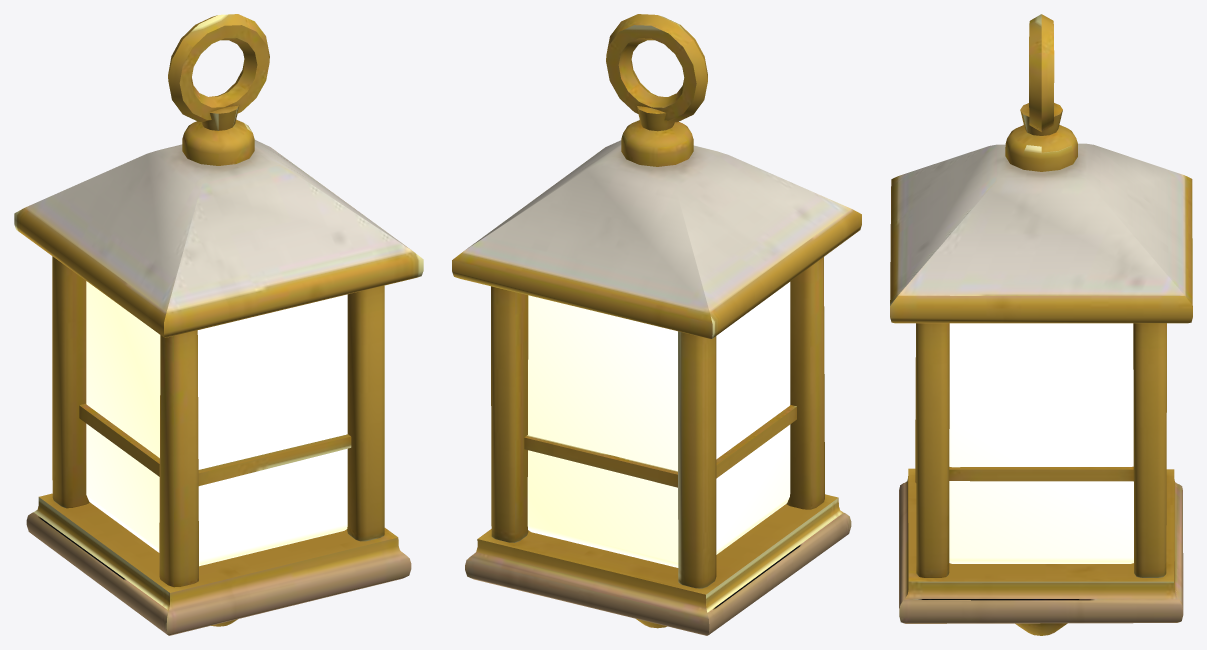
The model's file is lantern.glb.
3 views of the same model, side by side, from view 1: azimuth 30°, elevation 25°; view 2: azimuth 150°, elevation 25°; view 3: azimuth 270°, elevation 25° (orthographic).
Parts seen in each view (by area): view 1: lantern, glass; view 2: lantern, glass; view 3: lantern, glass.
Boxes of the visible parts, left/top/right/bottom form: lantern: left=14, top=14, right=423, bottom=635; glass: left=86, top=281, right=347, bottom=566; lantern: left=452, top=14, right=861, bottom=635; glass: left=527, top=282, right=790, bottom=567; lantern: left=890, top=14, right=1192, bottom=635; glass: left=949, top=323, right=1133, bottom=563.
Size of the model in its own units: 0.2003 by 0.4505 by 0.2008.
Materials: 4 (3 with a texture image).
